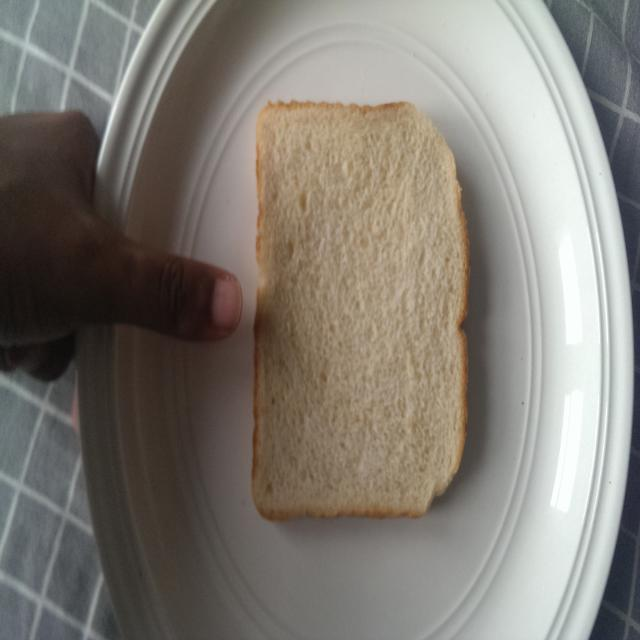Bread: (248, 91, 478, 535)
Finger: (152, 241, 246, 352)
